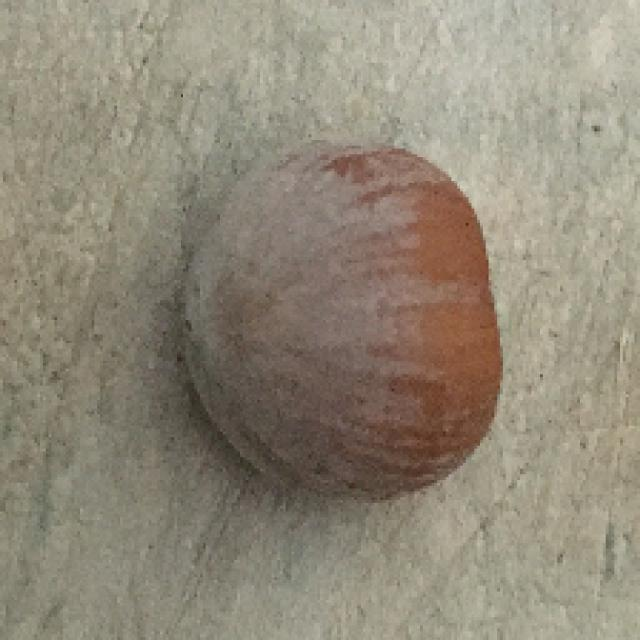qualityHazelnut: (181, 148, 504, 494)
